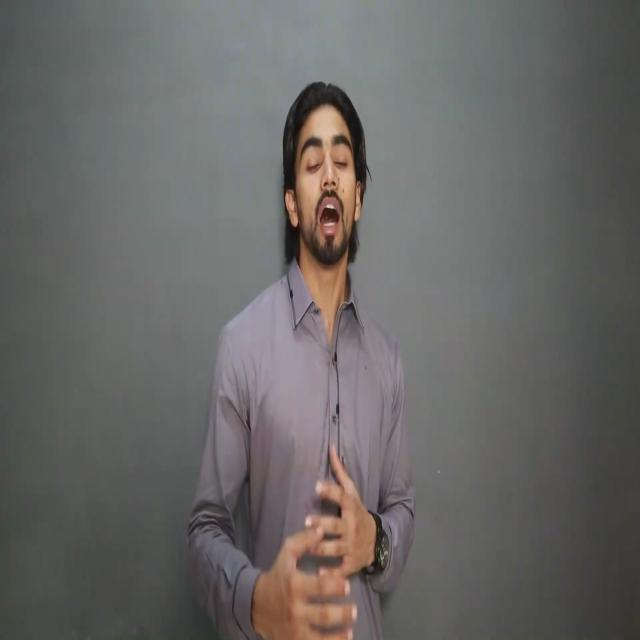dress: (186, 252, 417, 640)
